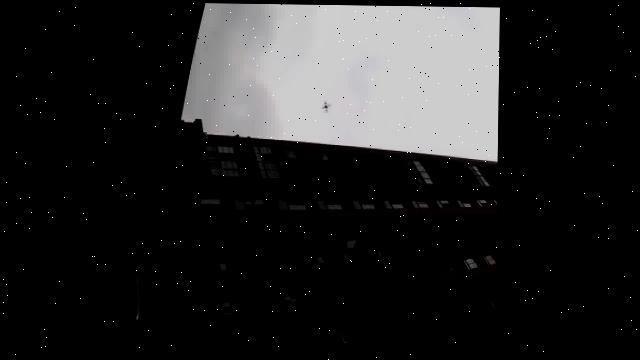drone: (321, 100, 333, 114)
